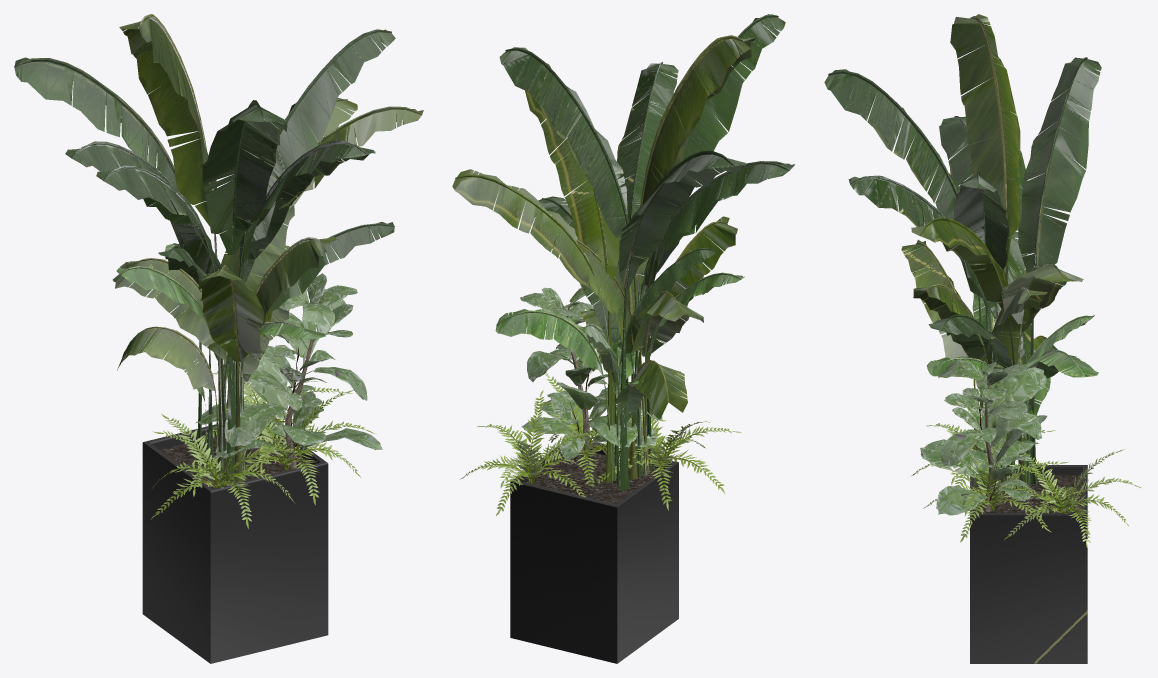
The model's file is raw_model.obj.
The picture shows the model from 3 angles, left to right: view 1: azimuth 30°, elevation 25°; view 2: azimuth 150°, elevation 25°; view 3: azimuth 270°, elevation 25°; orthographic projection. The views are drawn at different scales.
Parts seen in each view (by area): view 1: solid_006, solid_001, solid_005, solid_008, solid_004, solid_007, solid_002, solid_010; view 2: solid_006, solid_001, solid_005, solid_008, solid_004, solid_007, solid_002, solid_010; view 3: solid_006, solid_005, solid_001, solid_008, solid_004, solid_007, solid_002, solid_010.
Boxes of the visible parts, left/top/right/bottom form: solid_006: left=14, top=29, right=395, bottom=484; solid_001: left=142, top=423, right=328, bottom=663; solid_005: left=112, top=14, right=423, bottom=483; solid_008: left=195, top=273, right=382, bottom=458; solid_004: left=150, top=371, right=376, bottom=528; solid_007: left=116, top=243, right=325, bottom=483; solid_002: left=160, top=434, right=309, bottom=488; solid_010: left=168, top=386, right=353, bottom=505; solid_006: left=499, top=14, right=794, bottom=490; solid_001: left=510, top=441, right=678, bottom=663; solid_005: left=452, top=35, right=755, bottom=482; solid_008: left=520, top=287, right=662, bottom=460; solid_004: left=459, top=372, right=741, bottom=515; solid_007: left=495, top=272, right=744, bottom=483; solid_002: left=526, top=452, right=659, bottom=504; solid_010: left=476, top=387, right=711, bottom=493; solid_006: left=824, top=57, right=1101, bottom=493; solid_005: left=901, top=14, right=1083, bottom=490; solid_001: left=970, top=465, right=1087, bottom=663; solid_008: left=920, top=359, right=1047, bottom=515; solid_004: left=911, top=402, right=1142, bottom=549; solid_007: left=926, top=293, right=1098, bottom=489; solid_002: left=974, top=475, right=1082, bottom=512; solid_010: left=926, top=425, right=1126, bottom=525.
Size of the model in its own units: 0.6351 by 1.22 by 0.6187.
1 material, 1 textured.
